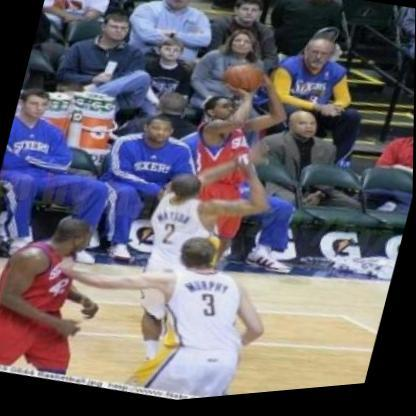basketball: (226, 60, 267, 103)
